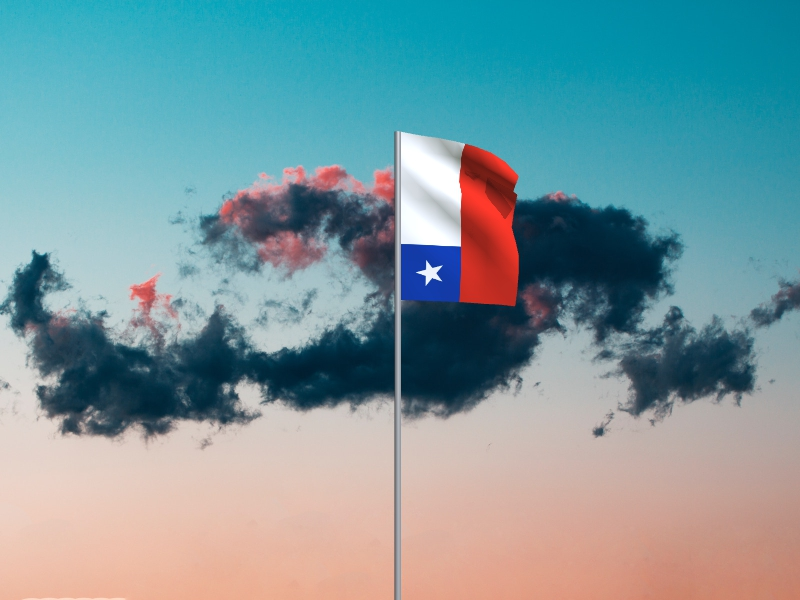cl: (401, 133, 521, 307)
